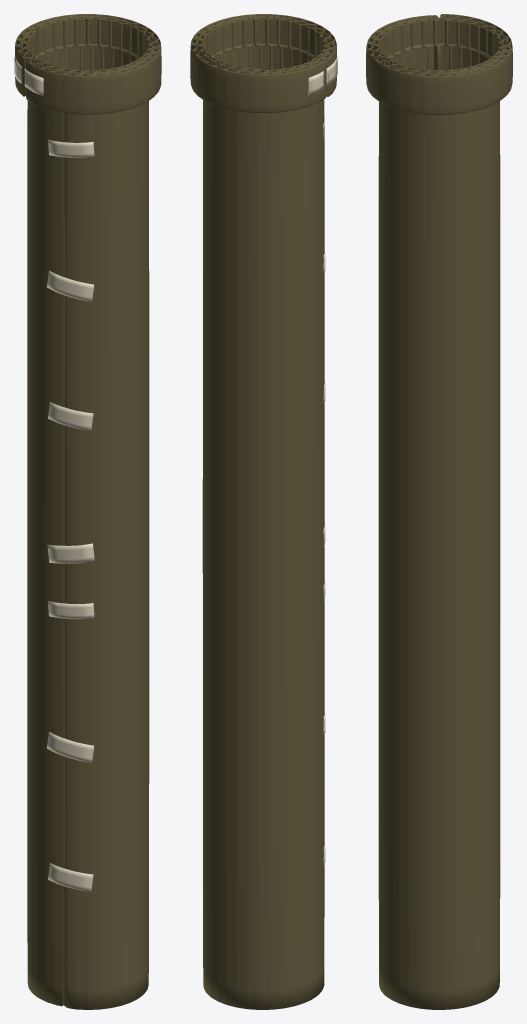
File: Pipe.fbx
The picture shows the model from 3 angles, left to right: view 1: azimuth 30°, elevation 25°; view 2: azimuth 150°, elevation 25°; view 3: azimuth 270°, elevation 25°; orthographic projection.
Visible parts, largest first — view 1: Cylinder.003, Cylinder.006, Cylinder.001, Cylinder.005, Cylinder.002, Cylinder.004, Plane.004, Plane.006, Plane.002, Plane.003, Plane.007, Plane.005 (+4 smaller); view 2: Cylinder.003, Cylinder.006, Cylinder.001, Cylinder.002, Cylinder.004, Cylinder.008, Cylinder.005, Cylinder, Plane; view 3: Cylinder.003, Cylinder.006, Cylinder.001, Cylinder.002, Cylinder.004, Cylinder.005, Cylinder.008, Cylinder, Cylinder.007.
Part boxes in pixels (left/top/right/bottom): Cylinder.003: left=27, top=43, right=149, bottom=1009; Cylinder.006: left=15, top=14, right=161, bottom=114; Cylinder.001: left=27, top=18, right=149, bottom=72; Cylinder.005: left=37, top=44, right=138, bottom=1007; Cylinder.002: left=23, top=16, right=153, bottom=72; Cylinder.004: left=39, top=45, right=137, bottom=1005; Plane.004: left=47, top=543, right=94, bottom=563; Plane.006: left=47, top=731, right=94, bottom=763; Plane.002: left=47, top=270, right=94, bottom=302; Plane.003: left=48, top=401, right=93, bottom=430; Plane.007: left=48, top=863, right=93, bottom=891; Plane.005: left=48, top=601, right=94, bottom=619; Cylinder.003: left=202, top=43, right=324, bottom=1009; Cylinder.006: left=190, top=14, right=336, bottom=113; Cylinder.001: left=202, top=18, right=324, bottom=72; Cylinder.002: left=198, top=16, right=329, bottom=72; Cylinder.004: left=214, top=45, right=312, bottom=70; Cylinder.008: left=191, top=14, right=335, bottom=112; Cylinder.005: left=214, top=44, right=314, bottom=72; Cylinder: left=197, top=16, right=330, bottom=72; Plane: left=308, top=57, right=337, bottom=95; Cylinder.003: left=378, top=43, right=500, bottom=1009; Cylinder.006: left=366, top=14, right=512, bottom=114; Cylinder.001: left=378, top=19, right=500, bottom=72; Cylinder.002: left=374, top=17, right=504, bottom=72; Cylinder.004: left=390, top=45, right=488, bottom=70; Cylinder.005: left=387, top=44, right=490, bottom=70; Cylinder.008: left=367, top=14, right=511, bottom=114; Cylinder: left=373, top=17, right=505, bottom=74; Cylinder.007: left=372, top=16, right=506, bottom=76.
Bounding box in the file's own units: 118 × 837 × 118.
